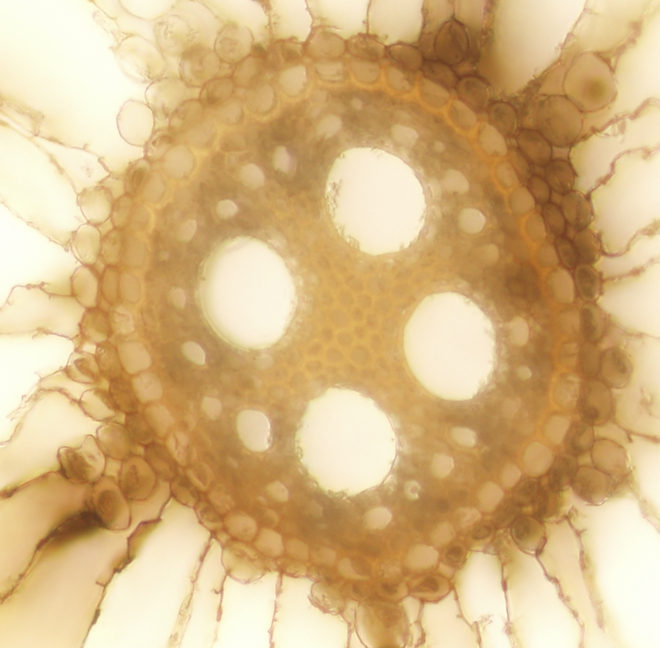lm: (196, 236, 297, 352), (294, 386, 396, 498), (324, 146, 426, 256), (402, 291, 498, 400)
